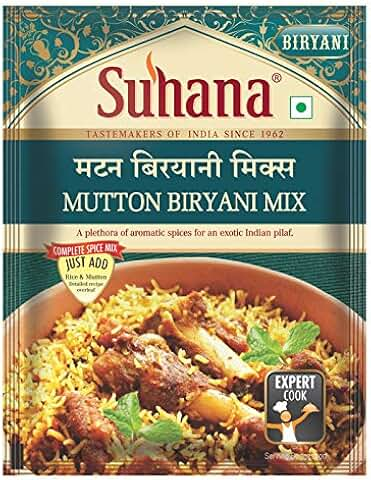Biryani: (3, 2, 371, 474)
